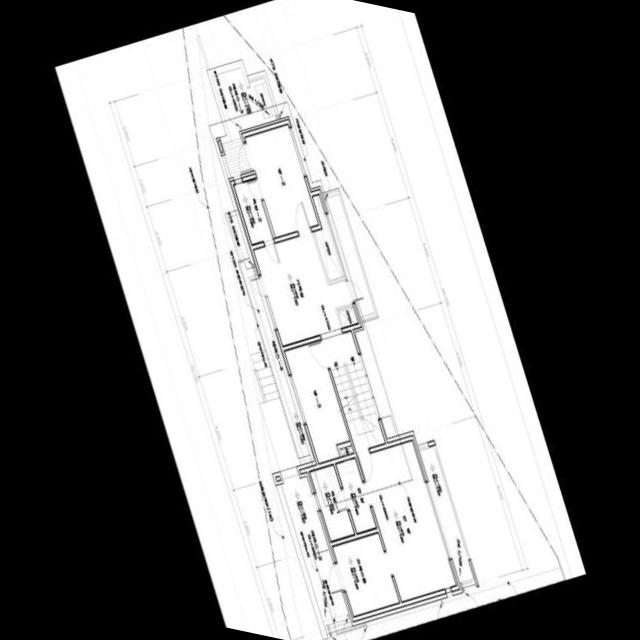background: (54, 0, 586, 640)
space_bedroom: (357, 441, 455, 601), (253, 232, 352, 346), (244, 124, 317, 237), (284, 341, 349, 463)
space_dressroom: (332, 533, 398, 616)
space_other: (336, 458, 375, 532), (312, 194, 344, 280), (338, 307, 357, 327), (339, 445, 353, 456)
space_staircase: (319, 328, 384, 452)
space_toilet: (309, 465, 354, 541), (233, 179, 272, 244)
